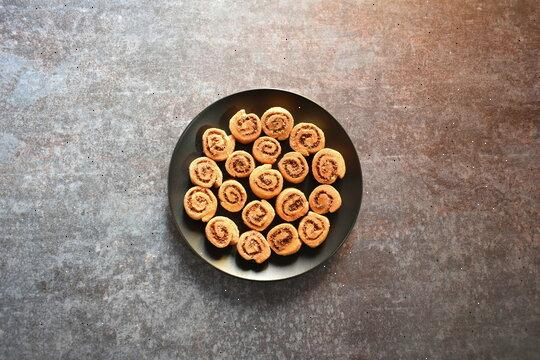bhakarwadi: (179, 106, 344, 266)
